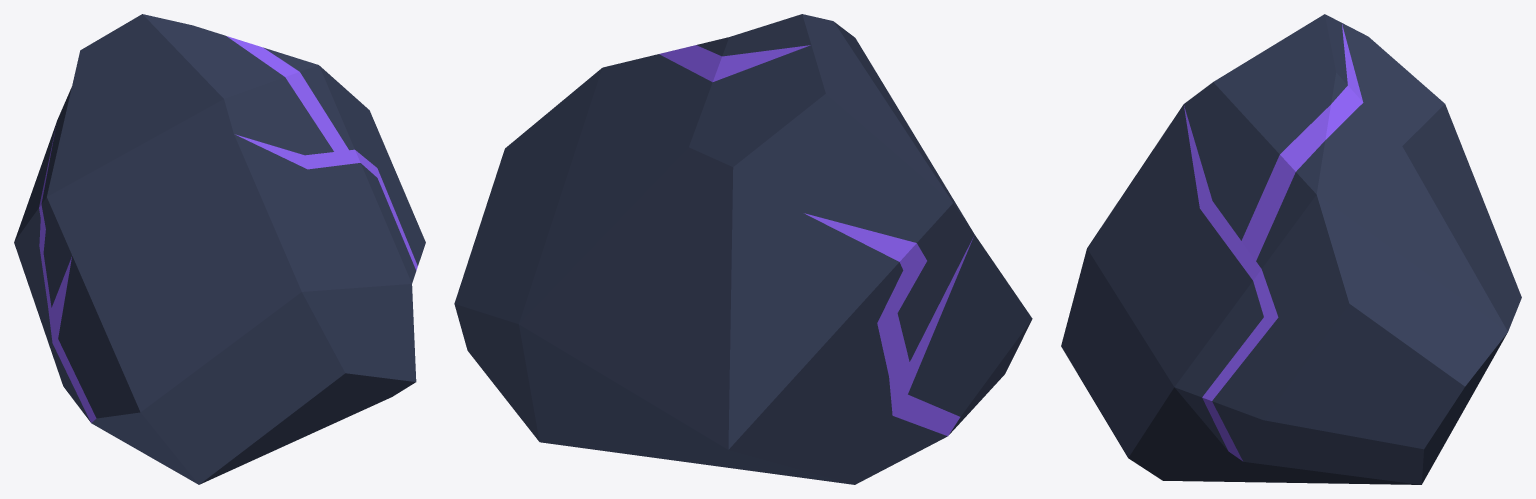
File: RawAstra.fbx
The picture shows the model from 3 angles, left to right: view 1: azimuth 30°, elevation 25°; view 2: azimuth 150°, elevation 25°; view 3: azimuth 270°, elevation 25°; orthographic projection. The views are drawn at different scales.
Parts seen in each view (by area): view 1: RawAstra; view 2: RawAstra; view 3: RawAstra.
Boxes of the visible parts, <box> form: RawAstra: <box>14,14,425,484</box>; RawAstra: <box>454,14,1032,484</box>; RawAstra: <box>1061,14,1521,484</box>.
Size of the model in its own units: 63.68 by 62.21 by 67.25.
